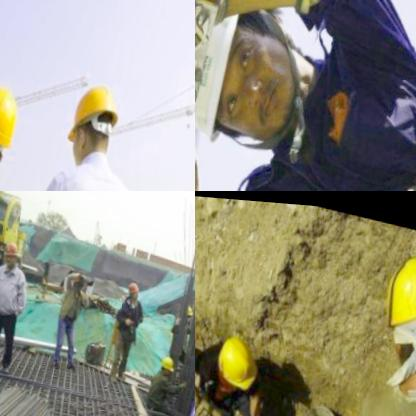helmet: (195, 0, 315, 152), (61, 64, 129, 175), (371, 241, 416, 373), (0, 67, 27, 182), (212, 328, 259, 392), (1, 236, 23, 270), (156, 346, 177, 378), (123, 273, 143, 303)
